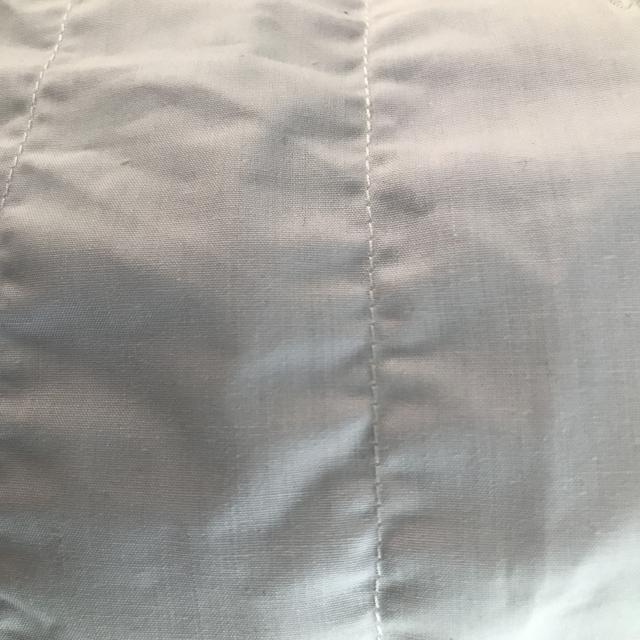good: (345, 180, 406, 298)
